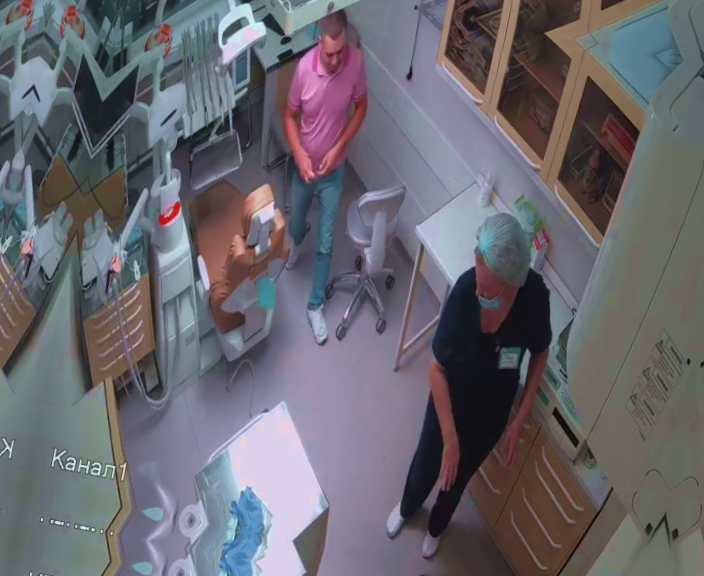Empty: (159, 167, 303, 370)
